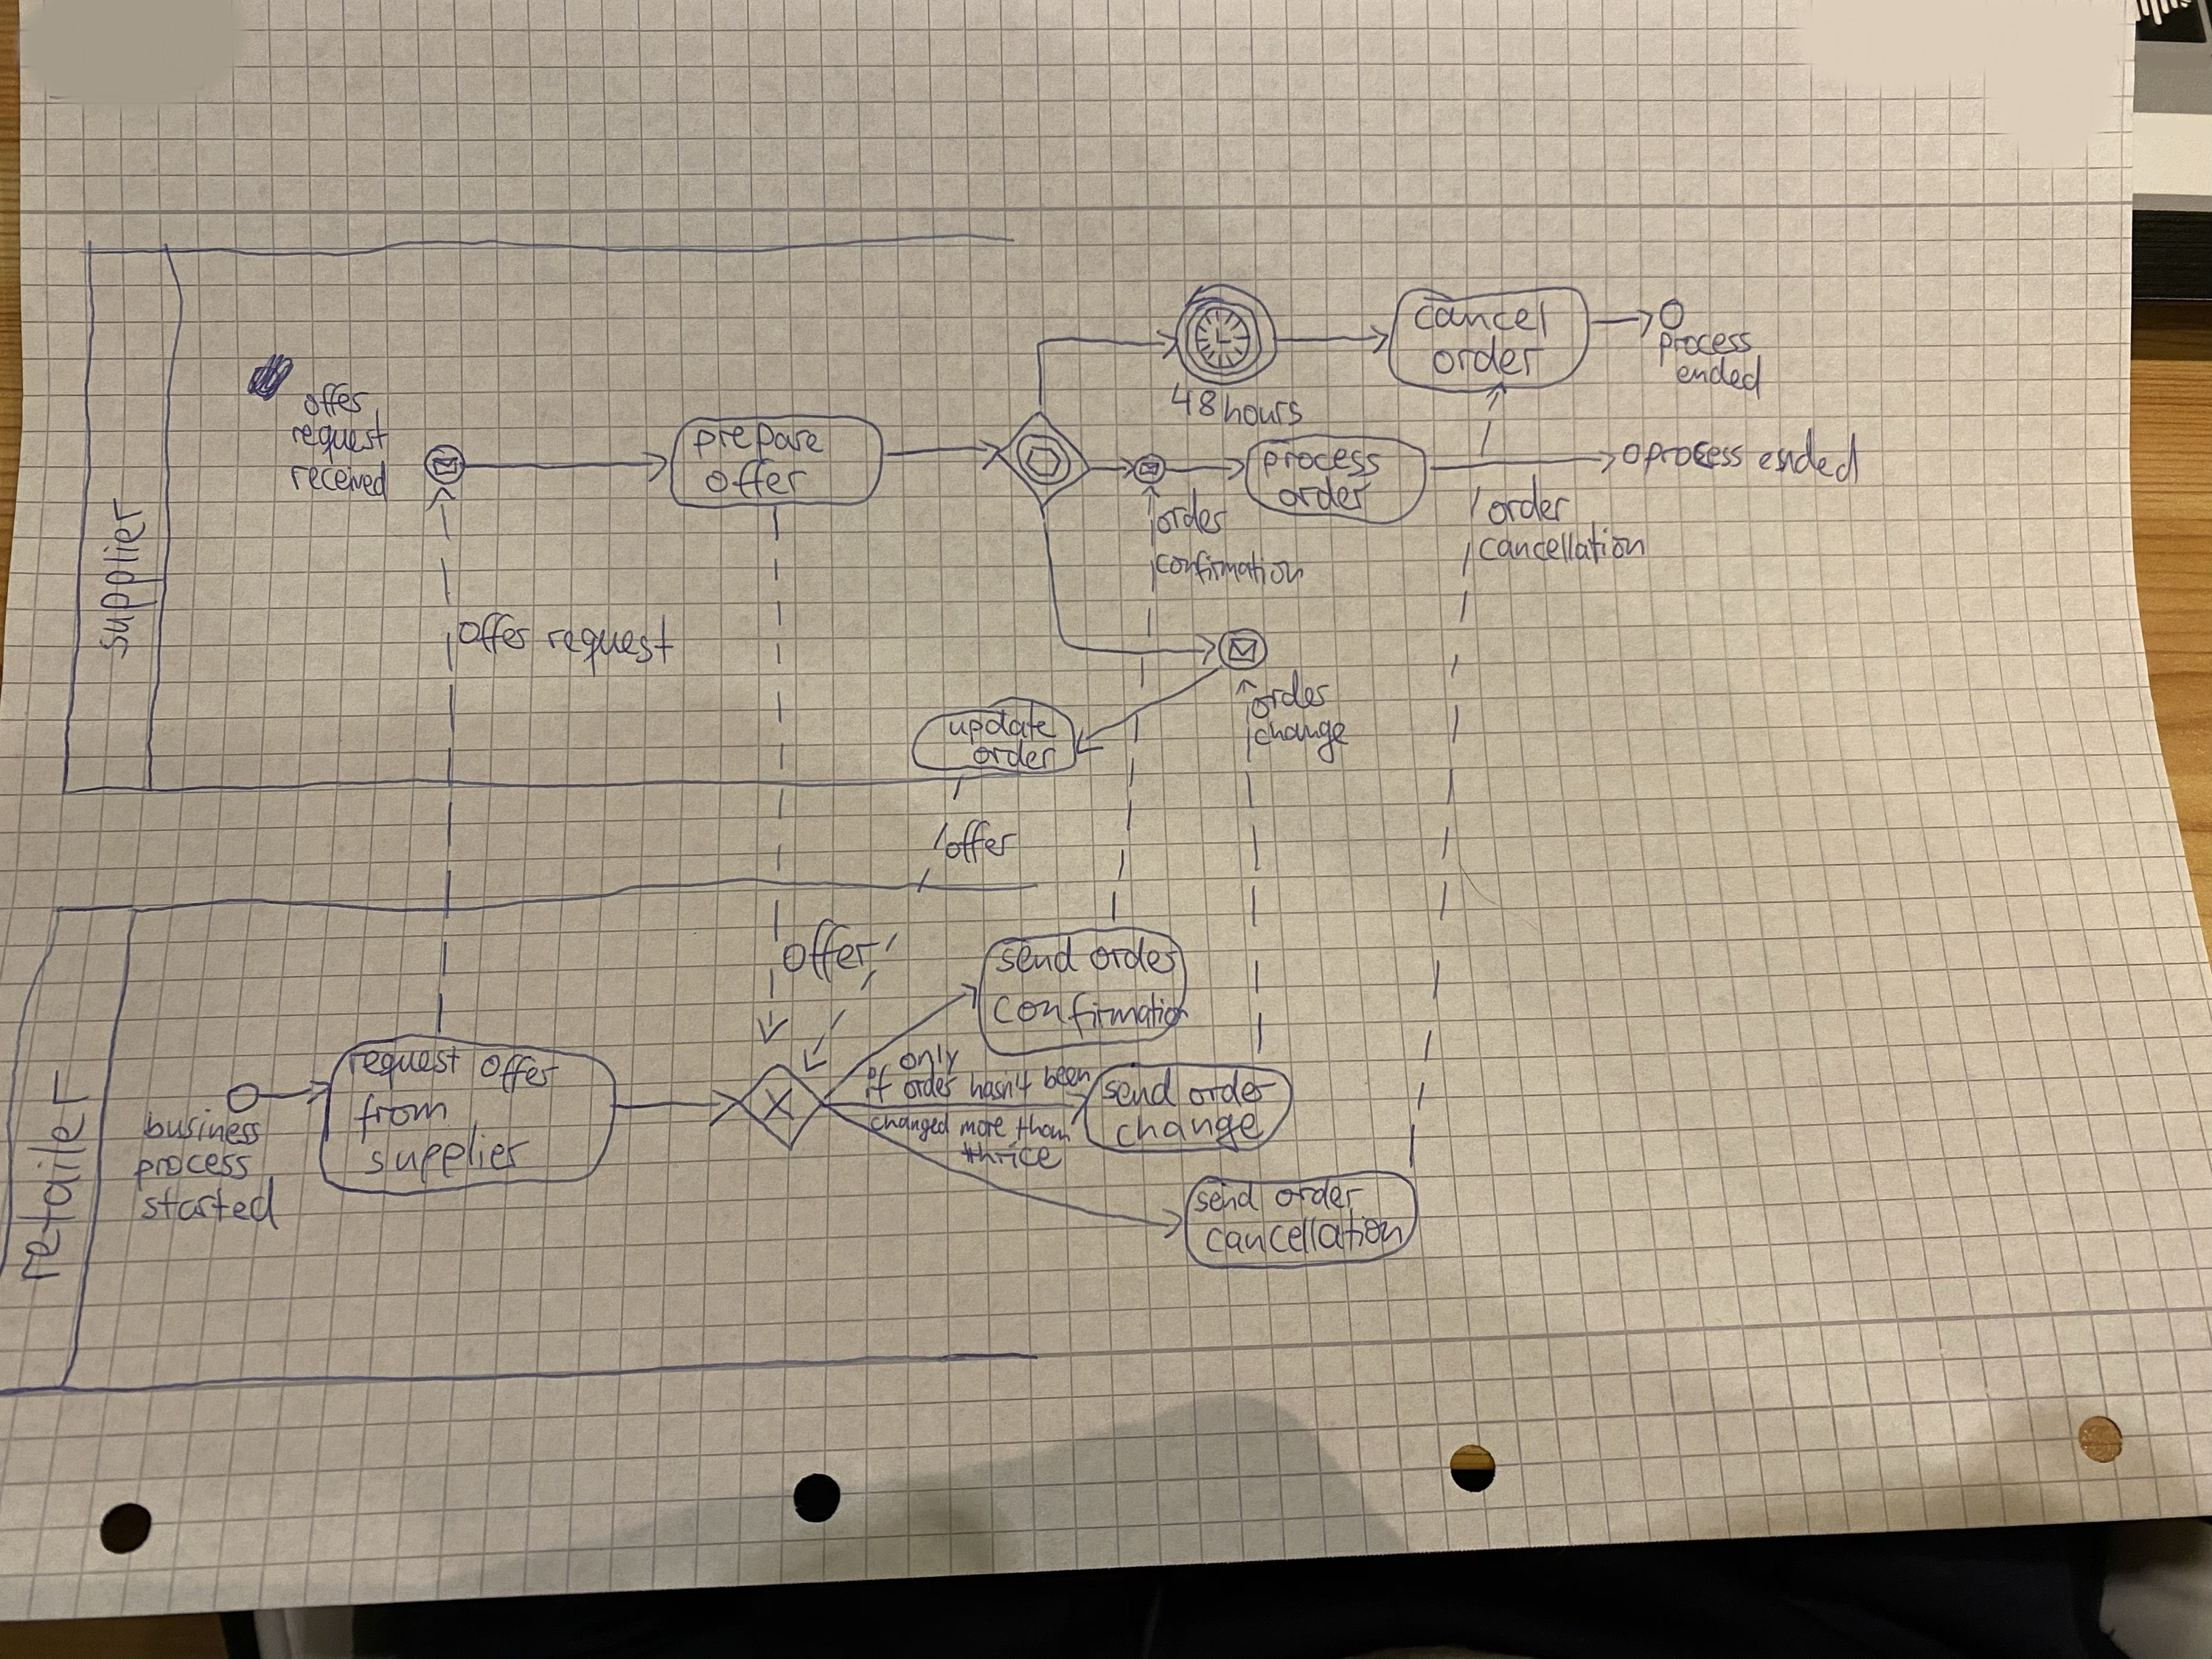48: (1170, 380, 1219, 423)
been: (1036, 1056, 1097, 1091)
business: (150, 1110, 260, 1154)
cancel: (1413, 298, 1545, 338)
cancellation: (1207, 1215, 1400, 1260), (1477, 532, 1648, 565)
change: (1127, 1110, 1258, 1145), (1249, 714, 1346, 758)
changed: (867, 1105, 949, 1145)
confirmation: (986, 986, 1193, 1035), (1151, 551, 1308, 589)
ended: (1754, 425, 1869, 483), (1672, 357, 1768, 390)
from: (354, 1098, 446, 1134)
hasn't: (968, 1066, 1035, 1101)
hours: (1221, 387, 1306, 434)
if: (860, 1068, 887, 1105)
more: (956, 1112, 1012, 1143)
offer: (707, 460, 812, 500), (453, 608, 526, 664), (481, 1049, 557, 1093), (939, 824, 1014, 864), (300, 385, 364, 422)
only: (878, 1039, 981, 1073)
order: (779, 917, 885, 974), (1087, 936, 1183, 978), (1433, 345, 1540, 380), (1271, 1180, 1367, 1216), (1183, 1072, 1270, 1112), (1244, 674, 1331, 713), (1487, 491, 1573, 528), (1278, 479, 1366, 512), (974, 742, 1061, 772), (1153, 505, 1226, 540), (900, 1066, 958, 1103)
prepare: (695, 423, 824, 460)
process: (120, 1145, 266, 1192), (1256, 441, 1383, 484), (1642, 434, 1745, 477), (1655, 322, 1752, 361)
received: (284, 462, 388, 498)
request: (535, 612, 678, 671), (355, 1042, 463, 1086), (289, 420, 385, 455)
retailer: (10, 1072, 91, 1284)
send: (991, 938, 1082, 981), (1101, 1073, 1176, 1112), (1195, 1180, 1258, 1208)
started: (134, 1190, 254, 1229)
supplier: (92, 504, 153, 660), (361, 1126, 523, 1176)
than: (1019, 1117, 1073, 1145)
thrice: (961, 1136, 1062, 1169)
update: (951, 713, 1057, 744)
